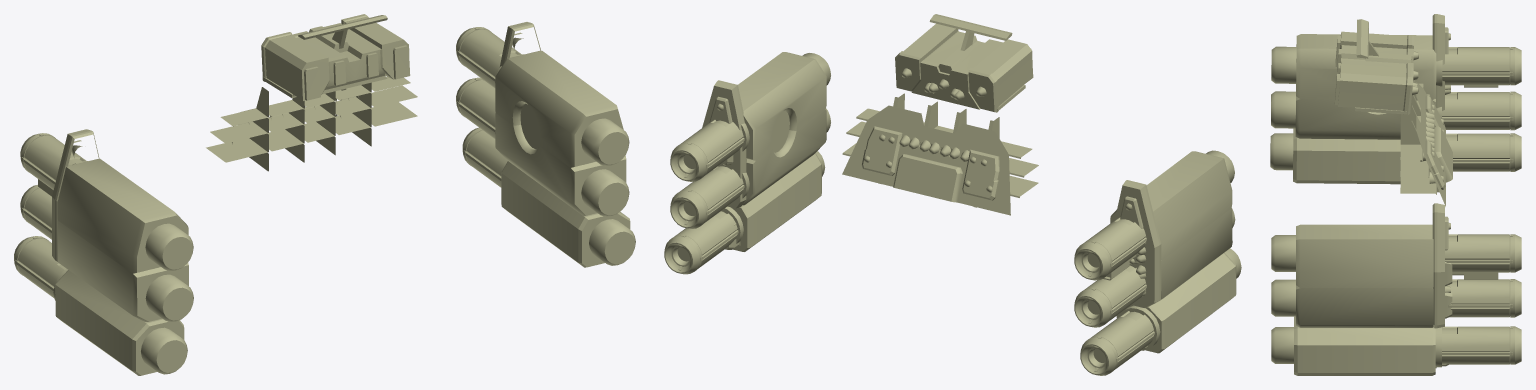
The model's file is JennerWeapons.glb.
3 renders of one model, left to right at view 1: azimuth 30°, elevation 25°; view 2: azimuth 150°, elevation 25°; view 3: azimuth 270°, elevation 25°, orthographic. The views are drawn at different scales.
Visible parts, largest first — view 1: Forearm_Right_EH1_PPC, Forearm_Left_EH1_PPC, Forearm_Left_EH3_PPC, Torso_Center_MH2_Missile2, Forearm_Right_EH3_PPC, Forearm_Right_EH2_PPC, Forearm_Left_EH2_PPC, Torso_Center_MH1_Blank, Torso_Center_MH3_Missile2, Torso_Center_MH3_Blank, Torso_Center_MH2_Missile4, Torso_Center_MH2_Missile5 (+2 smaller); view 2: Forearm_Right_EH1_PPC, Forearm_Left_EH1_PPC, Forearm_Left_EH3_PPC, Forearm_Right_EH3_PPC, Forearm_Right_EH2_PPC, Torso_Center_MH1_Missile10, Torso_Center_MH2_Missile2, Forearm_Left_EH2_PPC, Torso_Center_MH1_Missile2, Torso_Center_MH3_Missile2, Torso_Center_MH2_Missile4, Torso_Center_MH2_Missile5 (+9 smaller); view 3: Forearm_Right_EH1_PPC, Forearm_Right_EH3_PPC, Forearm_Right_EH2_PPC, Forearm_Left_EH3_PPC, Forearm_Left_EH1_PPC, Forearm_Left_EH2_PPC, Torso_Center_MH2_Missile2, Torso_Center_MH3_Missile2, Torso_Center_MH1_Blank, Torso_Center_MH1_Missile10, Forearm_Right_MH1_Missile10, Torso_Center_MH1_Missile2 (+9 smaller).
Boxes of the visible parts, x1,y1,x2,y2 form: Forearm_Right_EH1_PPC: (456, 27, 629, 167); Forearm_Left_EH1_PPC: (20, 133, 193, 273); Forearm_Left_EH3_PPC: (14, 236, 187, 375); Torso_Center_MH2_Missile2: (261, 15, 410, 100); Forearm_Right_EH3_PPC: (462, 127, 635, 267); Forearm_Right_EH2_PPC: (456, 77, 629, 216); Forearm_Left_EH2_PPC: (20, 185, 193, 321); Torso_Center_MH1_Blank: (226, 77, 417, 170); Torso_Center_MH3_Missile2: (206, 15, 417, 170); Torso_Center_MH3_Blank: (206, 83, 371, 171); Torso_Center_MH2_Missile4: (262, 14, 406, 99); Torso_Center_MH2_Missile5: (262, 14, 409, 84); Forearm_Right_EH1_PPC: (670, 52, 830, 181); Forearm_Left_EH1_PPC: (1074, 150, 1234, 280); Forearm_Left_EH3_PPC: (1080, 248, 1241, 375); Forearm_Right_EH3_PPC: (664, 151, 825, 274); Forearm_Right_EH2_PPC: (670, 108, 830, 228); Torso_Center_MH1_Missile10: (842, 105, 1010, 215); Torso_Center_MH2_Missile2: (895, 14, 1033, 112); Forearm_Left_EH2_PPC: (1074, 208, 1235, 327); Torso_Center_MH1_Missile2: (843, 105, 1010, 215); Torso_Center_MH3_Missile2: (862, 14, 1038, 207); Torso_Center_MH2_Missile4: (895, 17, 1032, 112); Torso_Center_MH2_Missile5: (904, 24, 997, 111); Forearm_Right_EH1_PPC: (1271, 224, 1521, 287); Forearm_Right_EH3_PPC: (1271, 316, 1521, 375); Forearm_Right_EH2_PPC: (1271, 279, 1521, 327); Forearm_Left_EH3_PPC: (1270, 128, 1521, 184); Forearm_Left_EH1_PPC: (1271, 34, 1521, 100); Forearm_Left_EH2_PPC: (1271, 91, 1521, 139); Torso_Center_MH2_Missile2: (1335, 19, 1417, 115); Torso_Center_MH3_Missile2: (1334, 19, 1436, 194); Torso_Center_MH1_Blank: (1401, 81, 1439, 194); Torso_Center_MH1_Missile10: (1416, 82, 1452, 205); Forearm_Right_MH1_Missile10: (1432, 203, 1450, 328); Torso_Center_MH1_Missile2: (1416, 82, 1445, 205).
Size of the model in its own units: 1.33 by 0.6798 by 0.6596.
